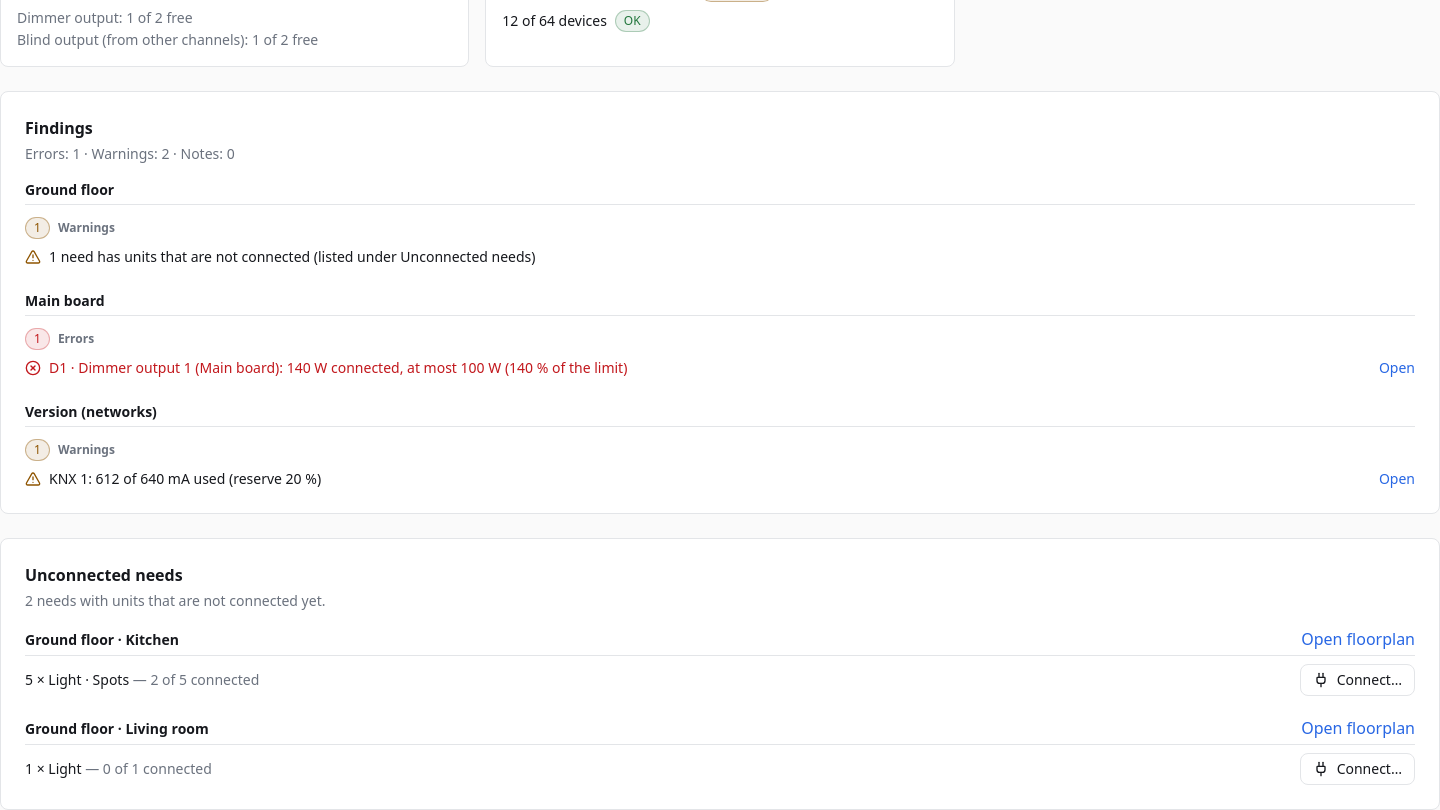
Test case: ChecksTab › shows the reason and the refused candidates with their rule when nothing fits
The width and height of the screenshot is (1440, 810).
(page scrolled)
Step 1. Click the button with aria-label "Connect 1 × Light…" → click(1357, 769), box [1300,753,1415,785]
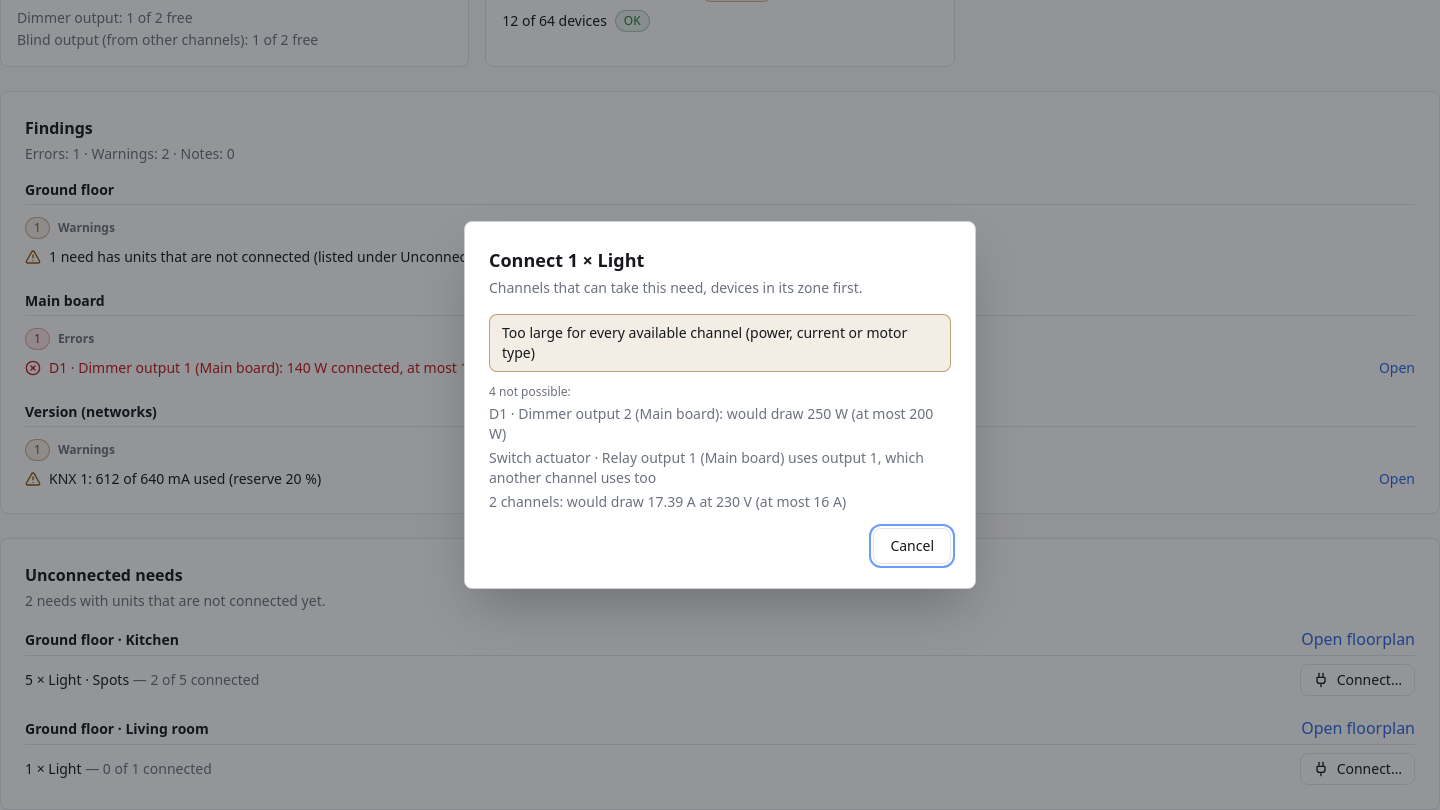
Result: the text "Too large for every available channel (power, current or motor type)" is shown at [489,314,951,372]
Result: the text "4 not possible:" is shown at [489,383,571,400]
Result: the list item "D1 · Dimmer output 2 (Main board): would draw 250 W (at most 200 W)" is shown at [489,404,951,444]
